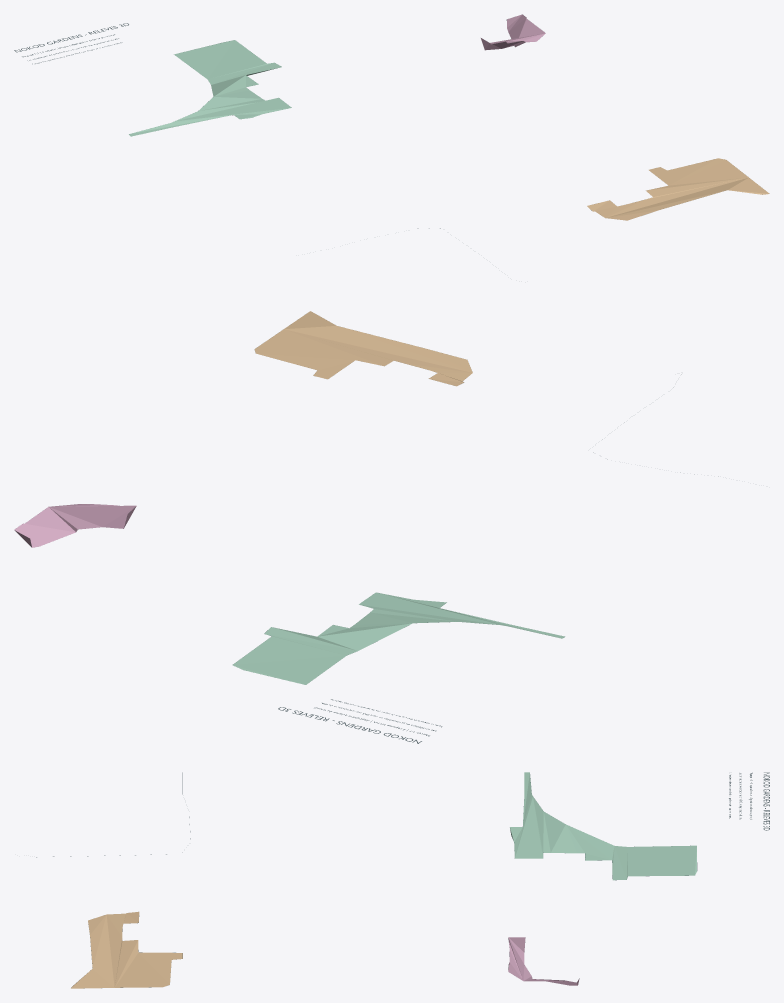
File: NOKOD_Projet_2_Modele_3D.dae
The picture shows the model from 3 angles, top to bottom: view 1: azimuth 30°, elevation 25°; view 2: azimuth 150°, elevation 25°; view 3: azimuth 270°, elevation 25°; orthographic projection. The views are drawn at different scales.
Visible parts, largest first — view 1: SURFACE_INTERPOLEE_NON_TERRAIN_Terrasse de gauche, SURFACE_INTERPOLEE_NON_TERRAIN_Terrasse de droite, SURFACE_INTERPOLEE_NON_TERRAIN_Zone escalier; view 2: SURFACE_INTERPOLEE_NON_TERRAIN_Terrasse de gauche, SURFACE_INTERPOLEE_NON_TERRAIN_Terrasse de droite, SURFACE_INTERPOLEE_NON_TERRAIN_Zone escalier; view 3: SURFACE_INTERPOLEE_NON_TERRAIN_Terrasse de gauche, SURFACE_INTERPOLEE_NON_TERRAIN_Terrasse de droite, SURFACE_INTERPOLEE_NON_TERRAIN_Zone escalier.
Part boxes in pixels (bbox=[...]): SURFACE_INTERPOLEE_NON_TERRAIN_Terrasse de gauche: bbox=[129, 40, 291, 136]; SURFACE_INTERPOLEE_NON_TERRAIN_Terrasse de droite: bbox=[587, 158, 769, 220]; SURFACE_INTERPOLEE_NON_TERRAIN_Zone escalier: bbox=[481, 14, 545, 50]; SURFACE_INTERPOLEE_NON_TERRAIN_Terrasse de gauche: bbox=[232, 592, 565, 684]; SURFACE_INTERPOLEE_NON_TERRAIN_Terrasse de droite: bbox=[254, 311, 472, 386]; SURFACE_INTERPOLEE_NON_TERRAIN_Zone escalier: bbox=[14, 504, 136, 547]; SURFACE_INTERPOLEE_NON_TERRAIN_Terrasse de gauche: bbox=[510, 772, 696, 880]; SURFACE_INTERPOLEE_NON_TERRAIN_Terrasse de droite: bbox=[71, 912, 182, 988]; SURFACE_INTERPOLEE_NON_TERRAIN_Zone escalier: bbox=[508, 937, 579, 985].
Bounding box in the file's own units: 29.84 × 44.27 × 1.6.
